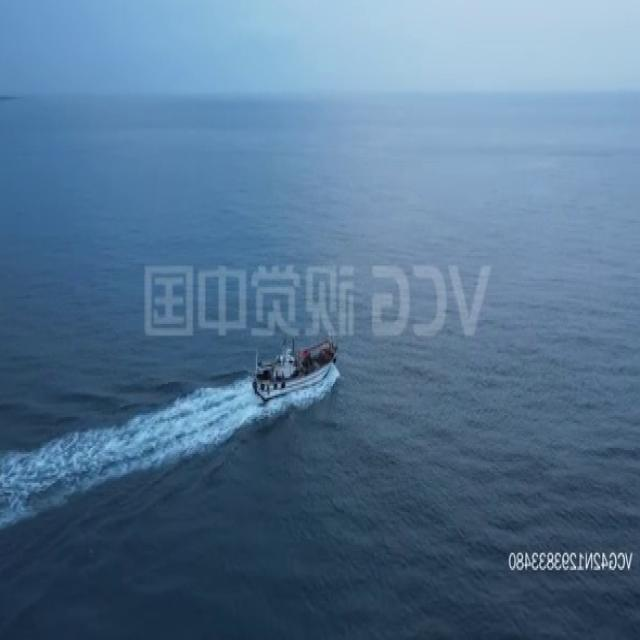houseboat: (252, 332, 336, 405)
